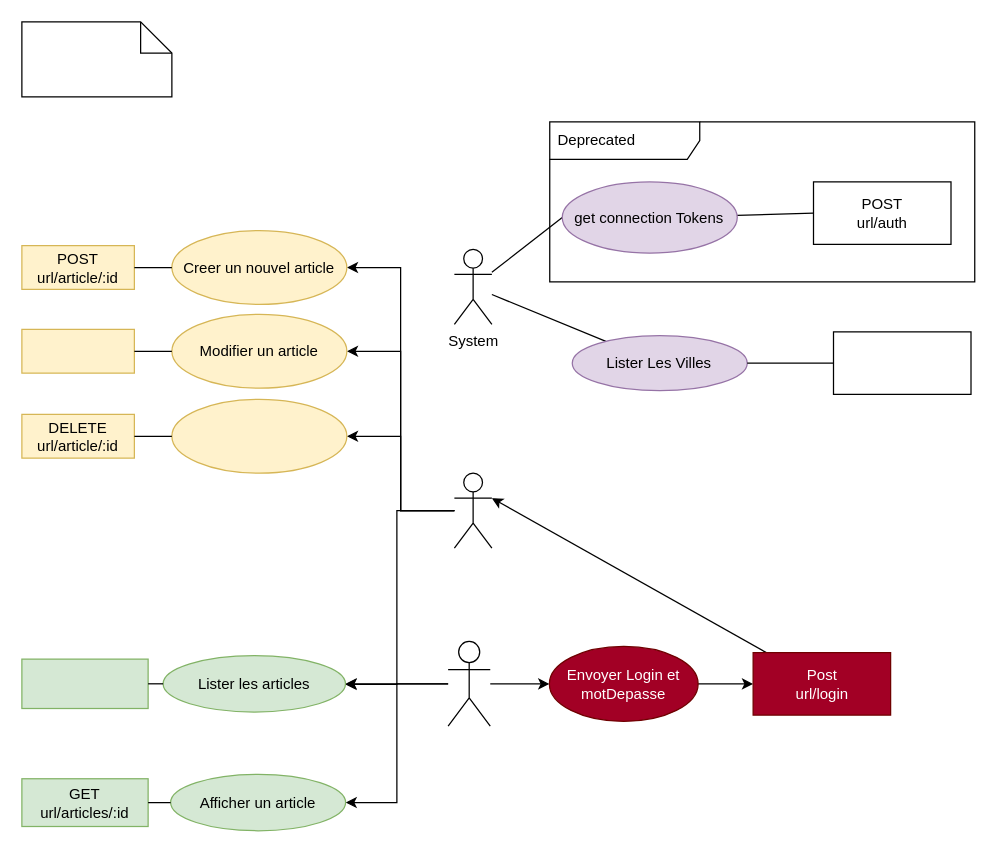
Some shapes in this 998 by 854 pixel diagram are drawn without their labels. Here are the shapes that lost their labels. From the top down, the centre of each, then its label:
At pixel 96 59: "url : API url".
At pixel 77 350: "PUT url/article/:id".
At pixel 901 362: "GET url/villes".
At pixel 259 435: "Suprimmer un article".
At pixel 472 510: "Admin".
At pixel 84 683: "GET url/articles".
At pixel 468 683: "Visiteur".
